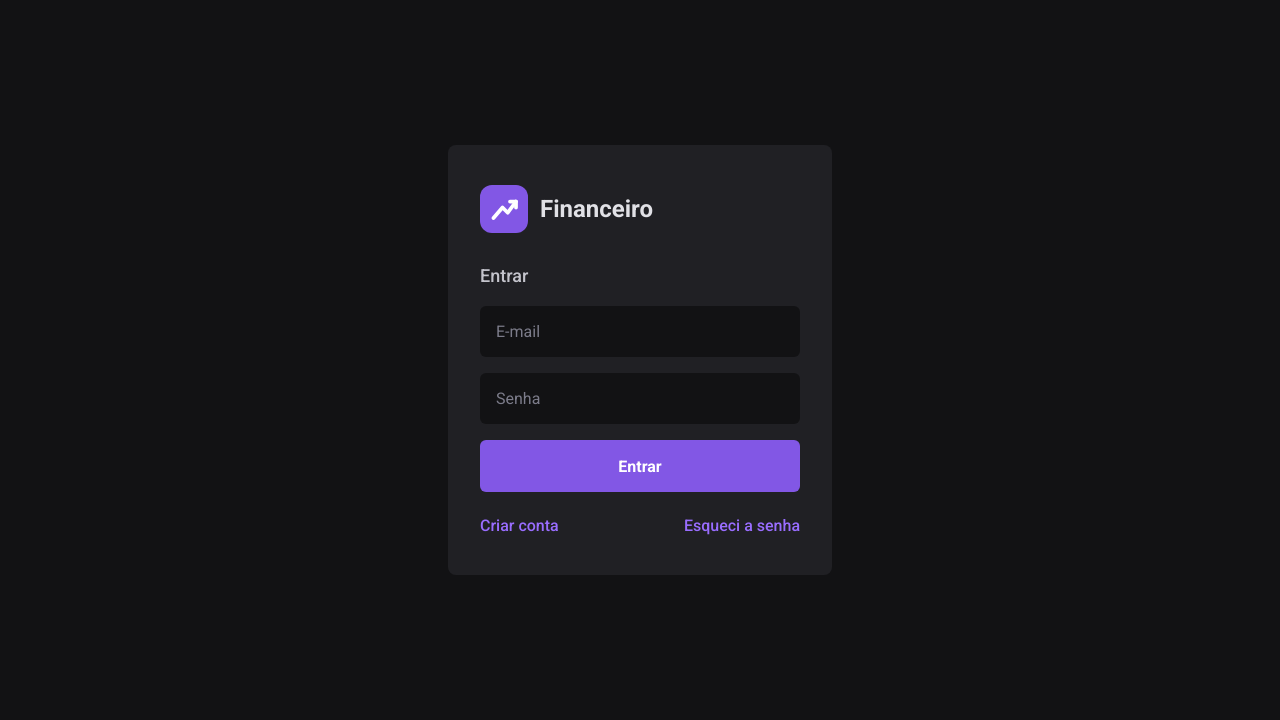
Test case: login › sem entrar, vai para a página de login; entrando, vê os lançamentos e pode sair
Check: the heading "Entrar" is shown, box [480, 265, 528, 286]
In the field labelled "E-mail": (640, 332) [480, 306, 800, 357], type "vini@exemplo.com"
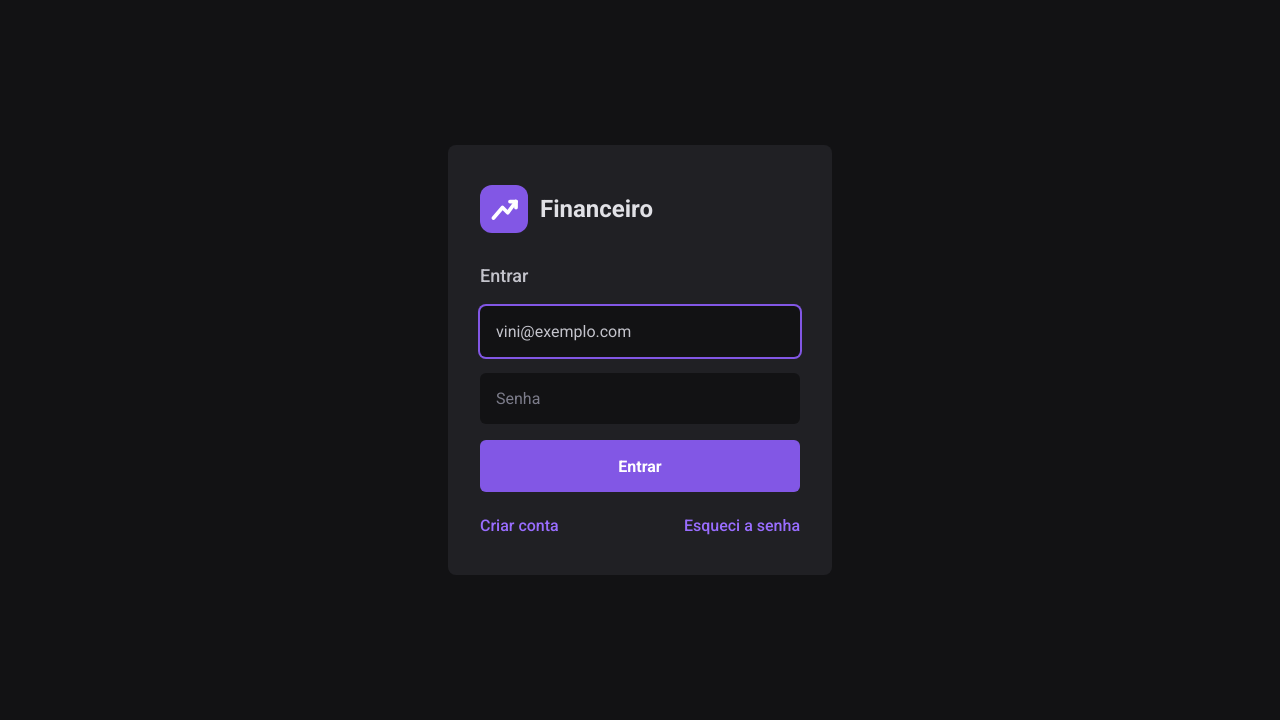
In the password field labelled "Senha": (640, 398) [480, 373, 800, 424], type "senha-errada"
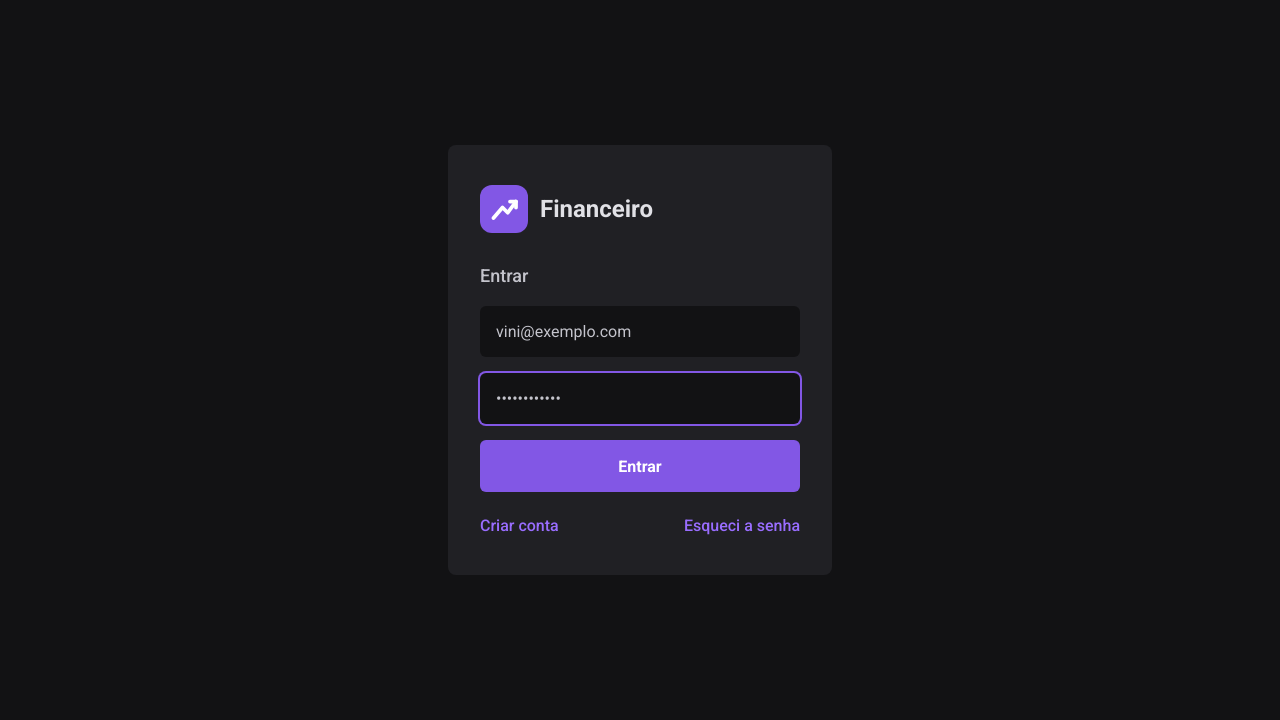
Click the button "Entrar": (640, 466) [480, 440, 800, 492]
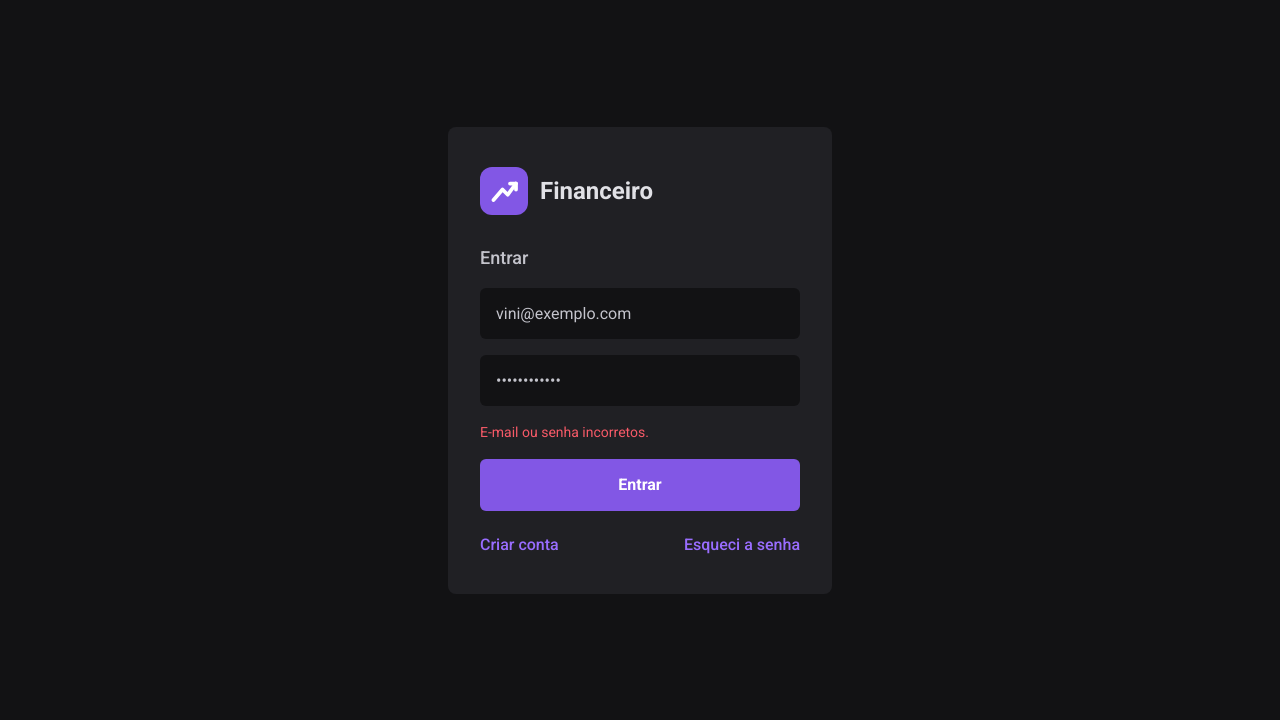
Check: the message reads "E-mail ou senha incorretos.", box [480, 424, 649, 440]
In the password field named "Senha": (640, 380) [480, 354, 800, 406], type "senha-boa-123"
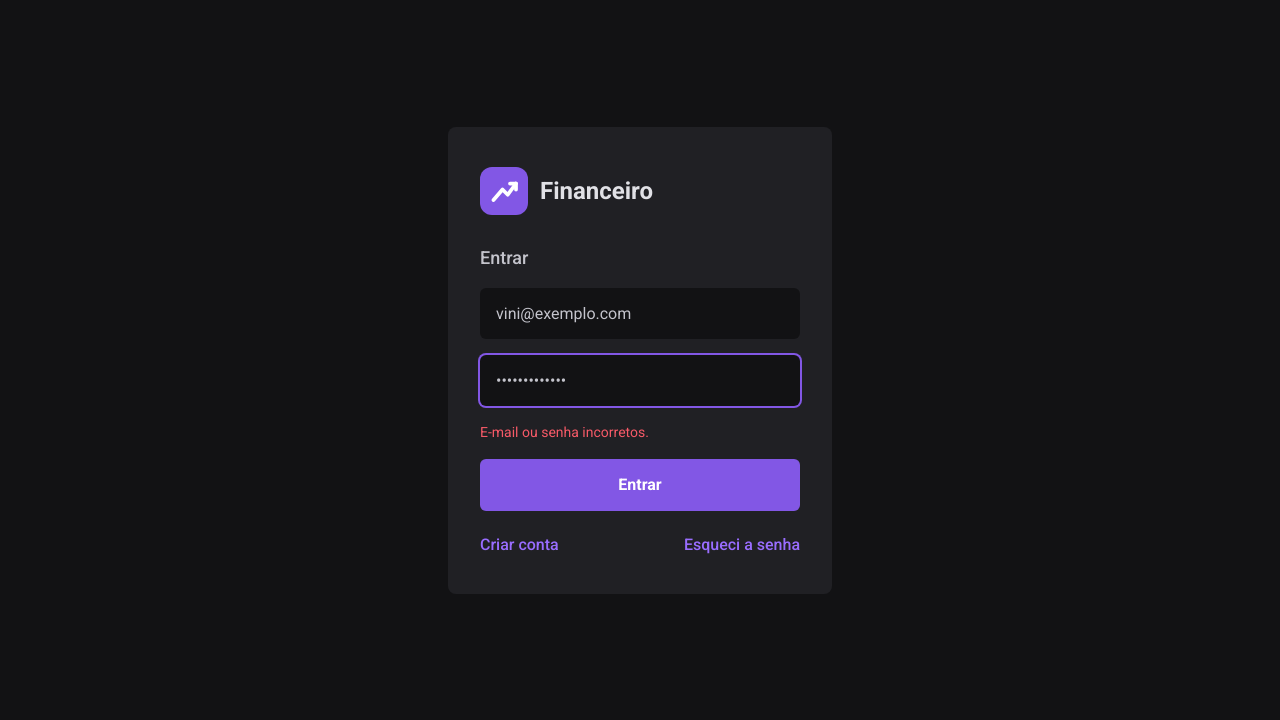
Click the button "Entrar": (640, 484) [480, 458, 800, 510]
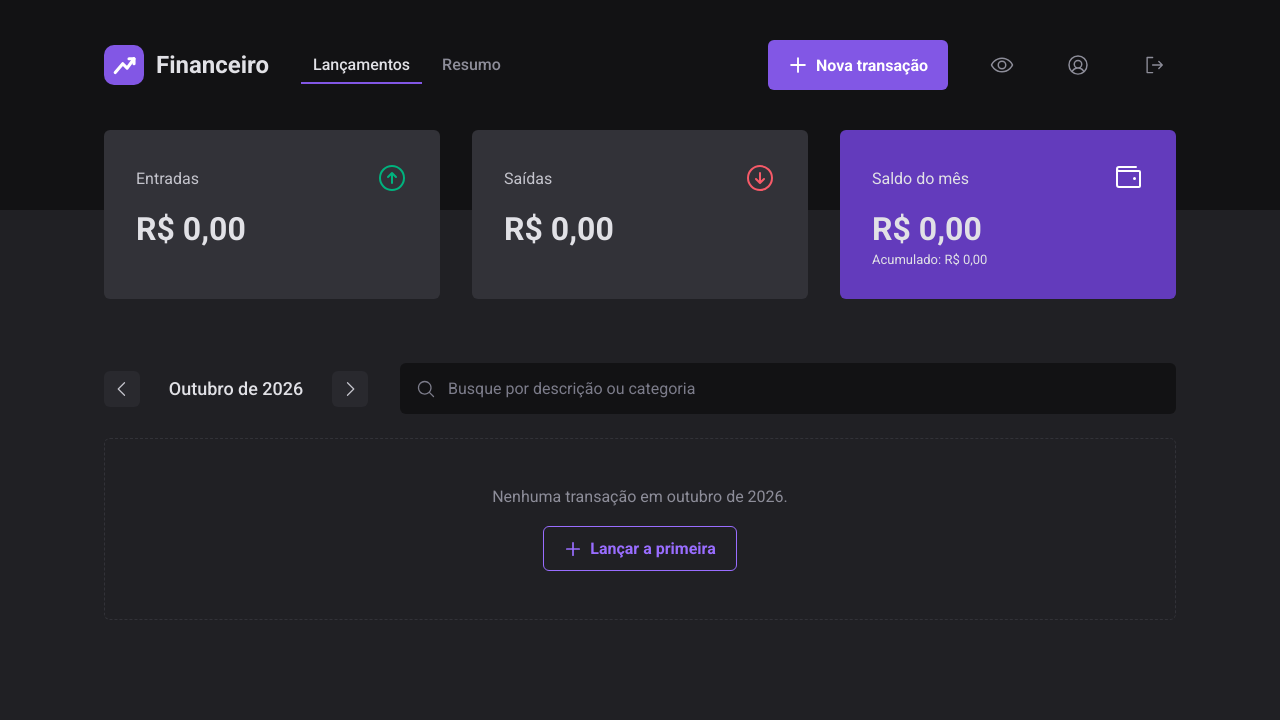
Check: the text "Nenhuma transação em outubro de 2026." is shown, box [492, 487, 788, 506]
Click the button named "Sair (vini@exemplo.com)": (1154, 65) [1132, 43, 1176, 87]
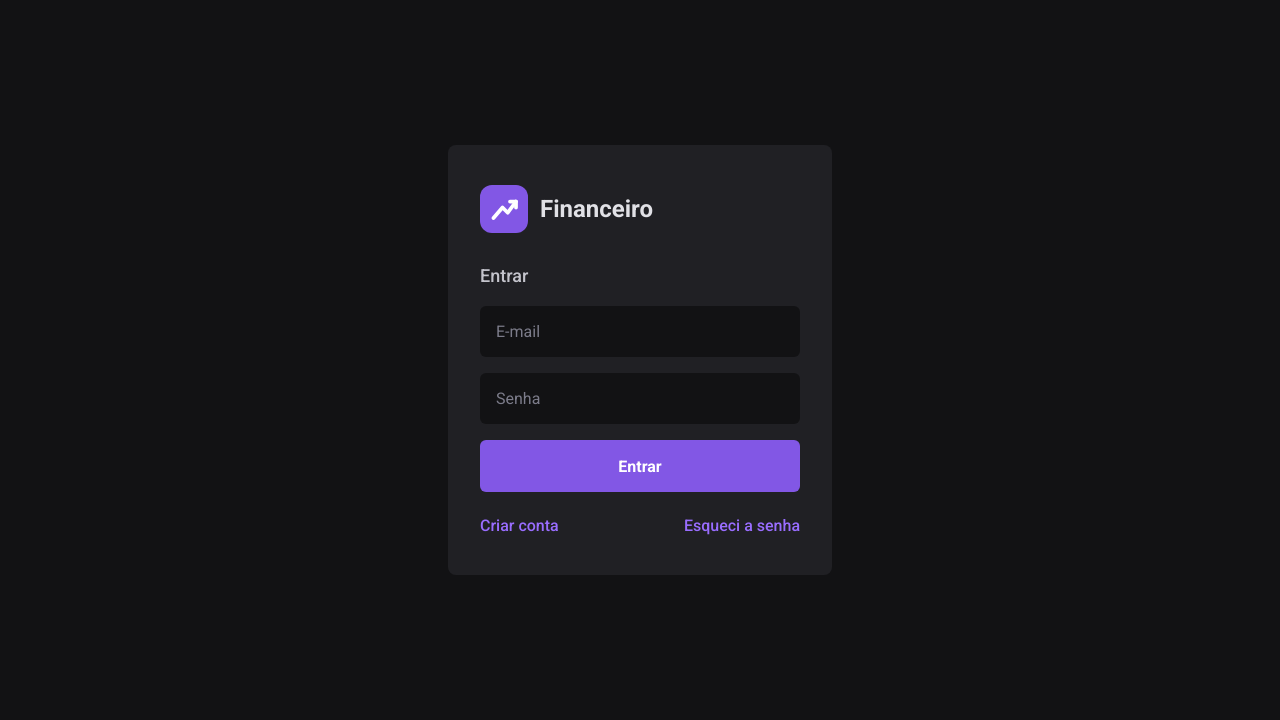
Check: the heading "Entrar" is shown, box [480, 265, 528, 286]
